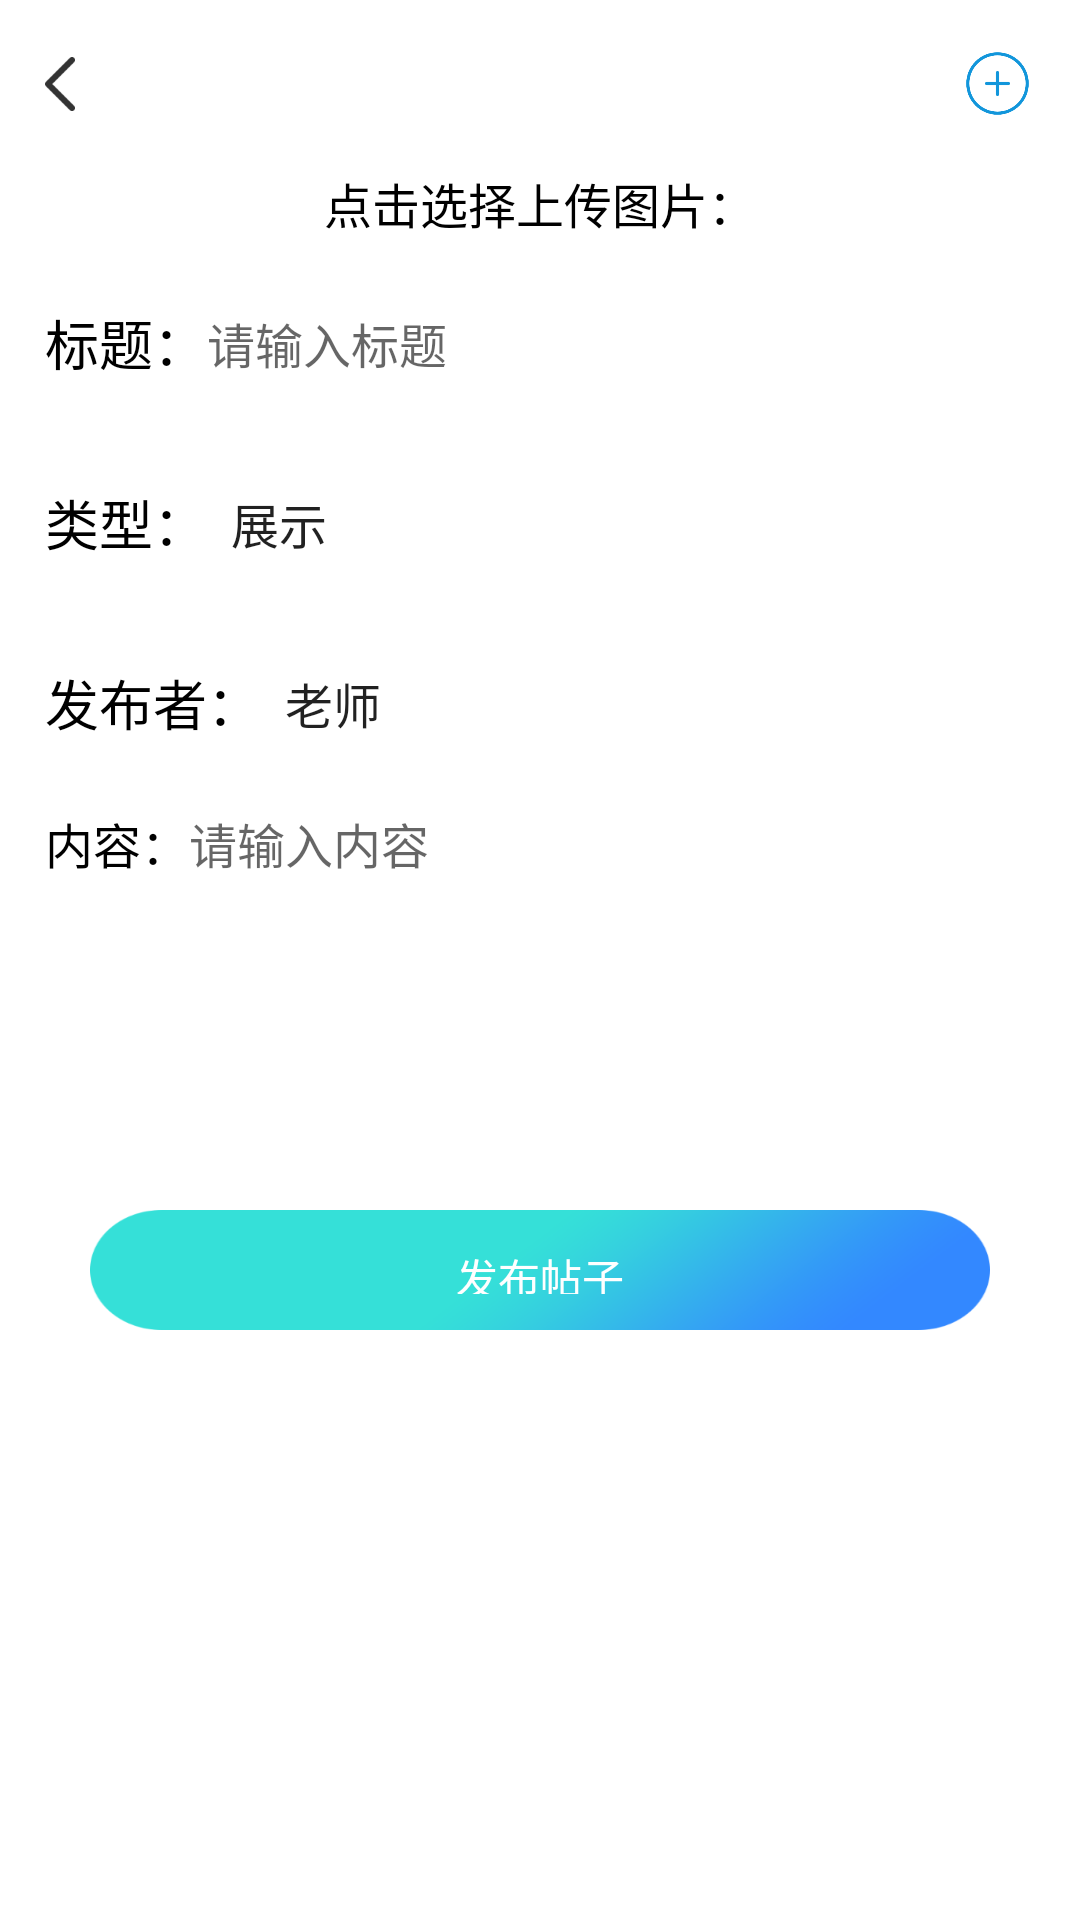

Where icons sit on this 1080×1920 app screen, as (x1, y1, x2, y2):
add: (966, 52, 1029, 115)
back: (45, 57, 75, 111)
